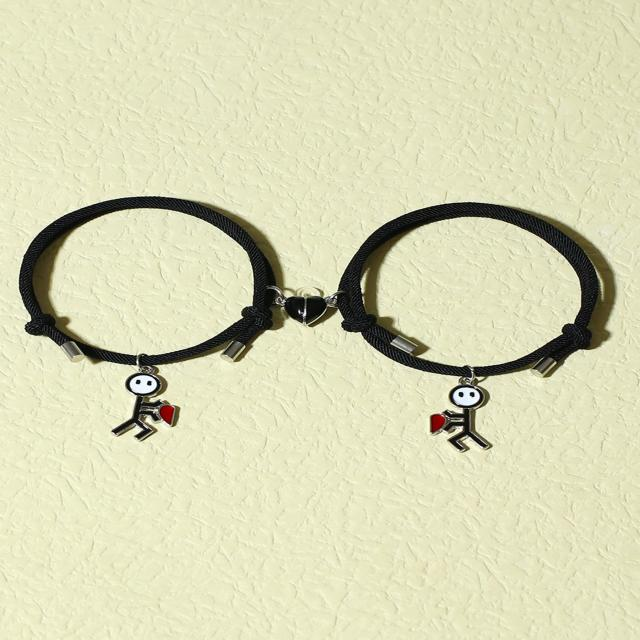bracelet: (311, 144, 640, 488), (0, 143, 313, 453)
